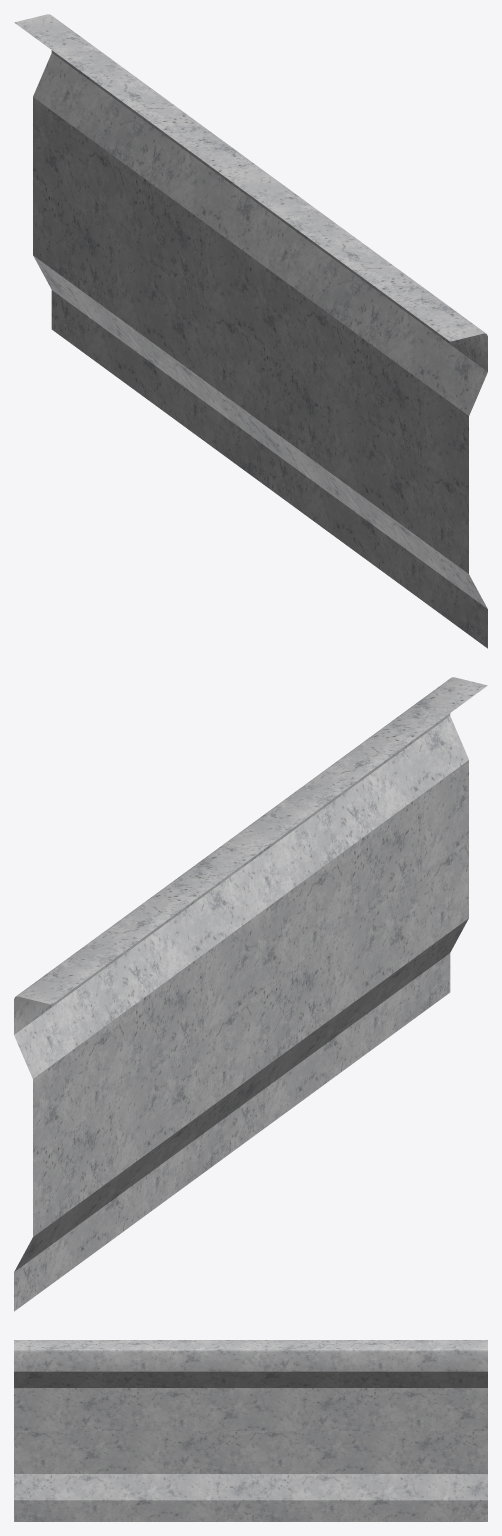
Rendered from BottomWall.fbx.
3 views of the same model, one above another, from view 1: azimuth 30°, elevation 25°; view 2: azimuth 150°, elevation 25°; view 3: azimuth 270°, elevation 25° (orthographic). The views are drawn at different scales.
Parts seen in each view (by area): view 1: BottomWall; view 2: BottomWall; view 3: BottomWall.
Part boxes in pixels (x1,y1,x2,y2): BottomWall: (14, 14, 487, 648); BottomWall: (14, 677, 487, 1311); BottomWall: (14, 1340, 487, 1521).
Bounding box in the file's own units: 200 × 80 × 10.
1 material, 1 textured.
